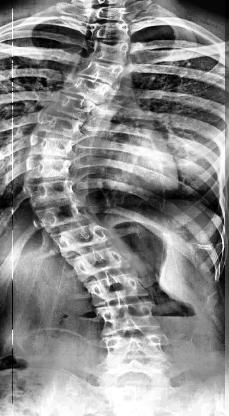Vertebrae: (97, 360, 175, 396), (100, 334, 174, 368), (89, 272, 153, 306), (98, 302, 162, 334), (70, 248, 130, 278), (50, 224, 109, 254), (32, 202, 92, 231), (20, 177, 78, 205), (45, 91, 97, 119), (30, 112, 84, 138), (60, 76, 112, 100), (24, 134, 76, 158), (22, 156, 74, 180), (77, 60, 125, 82), (86, 22, 134, 42), (86, 40, 130, 61), (86, 7, 130, 21)
